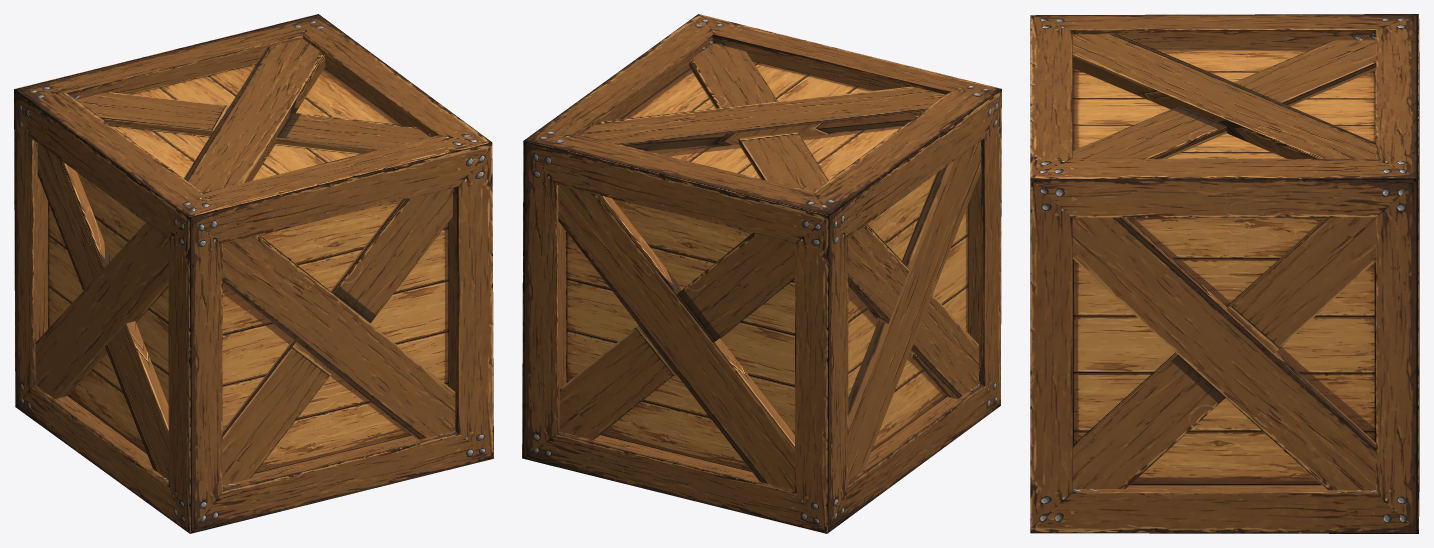
The picture shows the model from 3 angles, left to right: view 1: azimuth 30°, elevation 25°; view 2: azimuth 150°, elevation 25°; view 3: azimuth 270°, elevation 25°; orthographic projection. The views are drawn at different scales.
Parts seen in each view (by area): view 1: Cube.008_0; view 2: Cube.008_0; view 3: Cube.008_0.
Boxes of the visible parts, bbox=[...] form: Cube.008_0: bbox=[14, 14, 493, 533]; Cube.008_0: bbox=[522, 14, 1001, 533]; Cube.008_0: bbox=[1030, 14, 1419, 533].
Size of the model in its own units: 0.5709 by 0.5666 by 0.559.
Materials: 1 (1 with a texture image).
